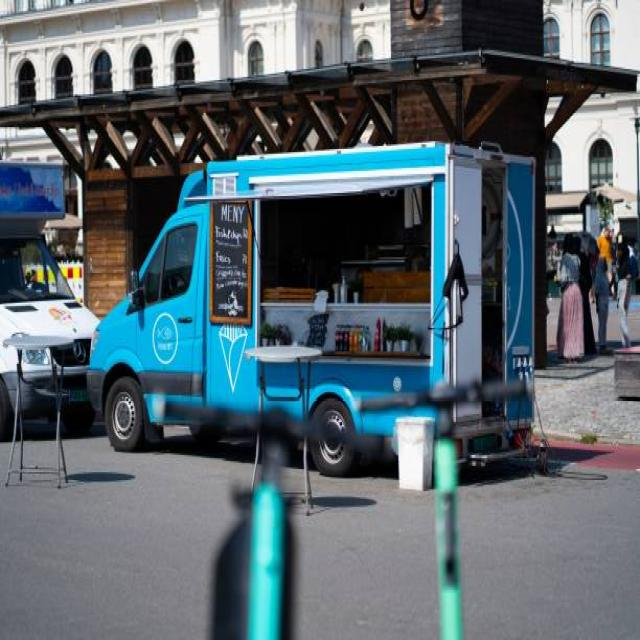Emperan: (75, 130, 540, 467)
